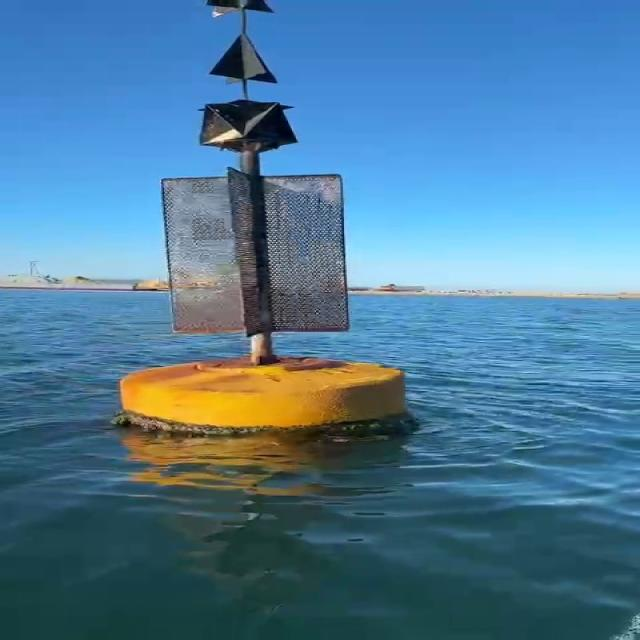marque: (122, 1, 422, 453)
